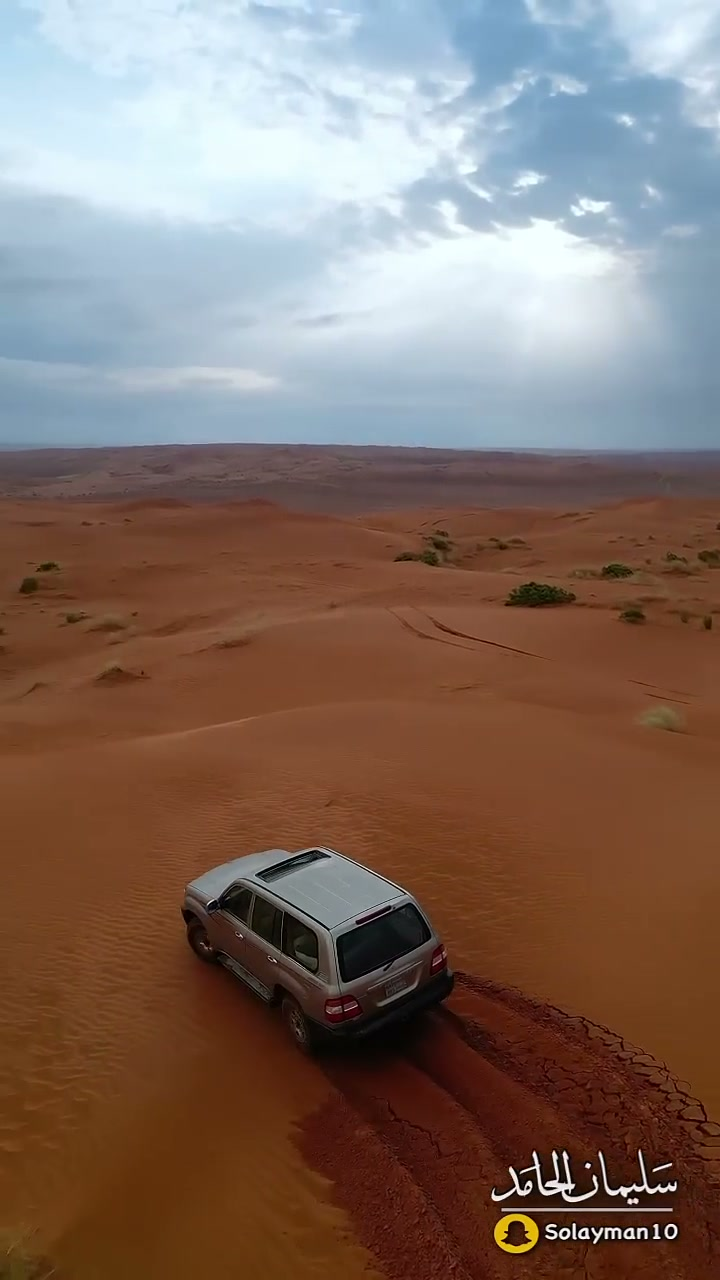vehicle_track: (299, 975, 719, 1279)
